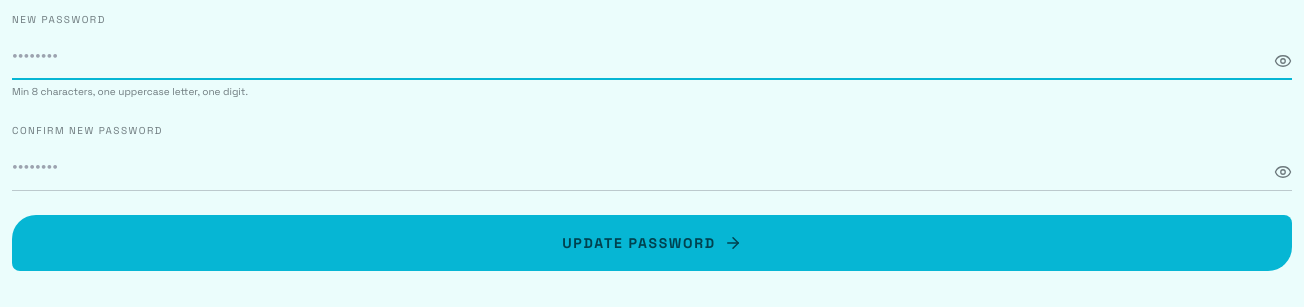
Test: ResetPasswordForm — validation › shows password required error on empty submit
The width and height of the screenshot is (1304, 307).
Click the button "Update password".
click(652, 243)  # box [12,215,1292,271]
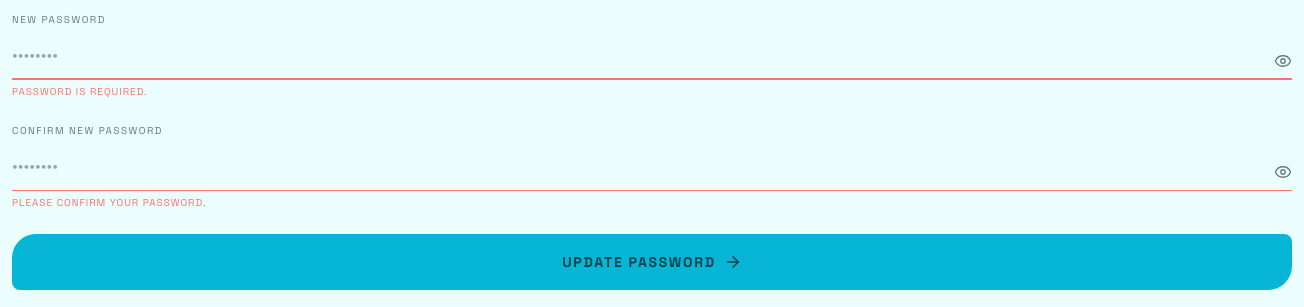
Expected: the text "Password is required." is shown, [12,85,148,98]
